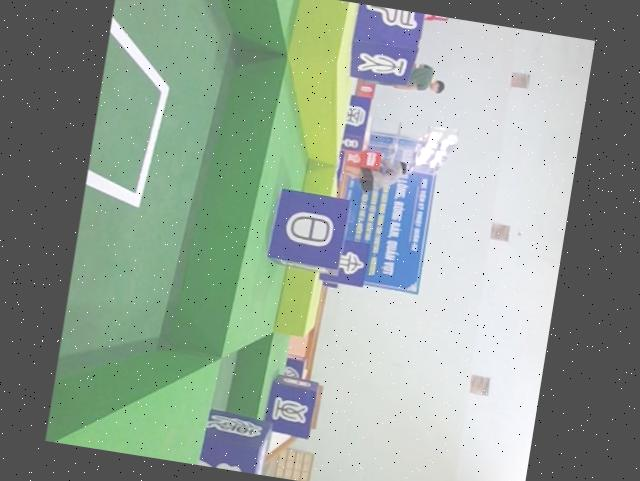R2 Fake Blue: (261, 183, 350, 277), (343, 3, 424, 88), (194, 408, 273, 475), (262, 373, 321, 439), (317, 234, 370, 288), (340, 95, 371, 152)
